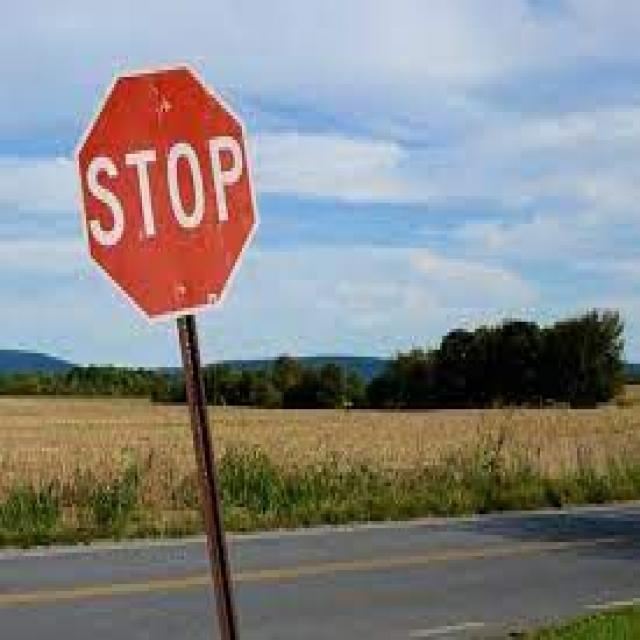stop-sign: (77, 97, 328, 341)
